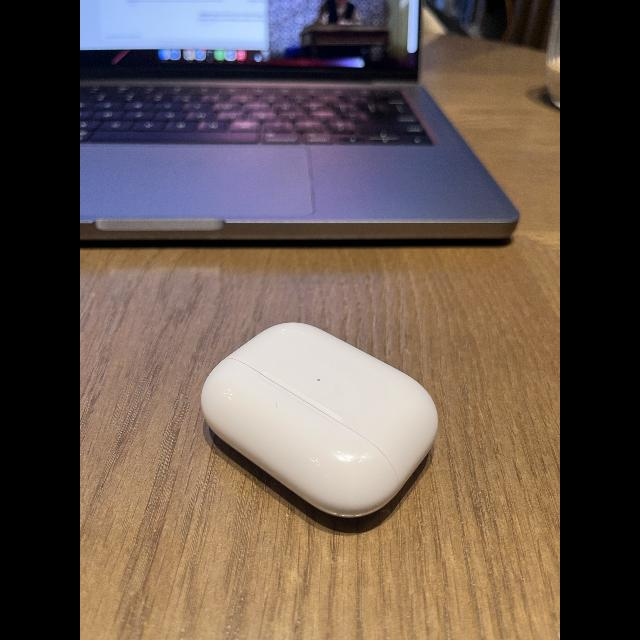AirPods Pro: (195, 314, 441, 534)
